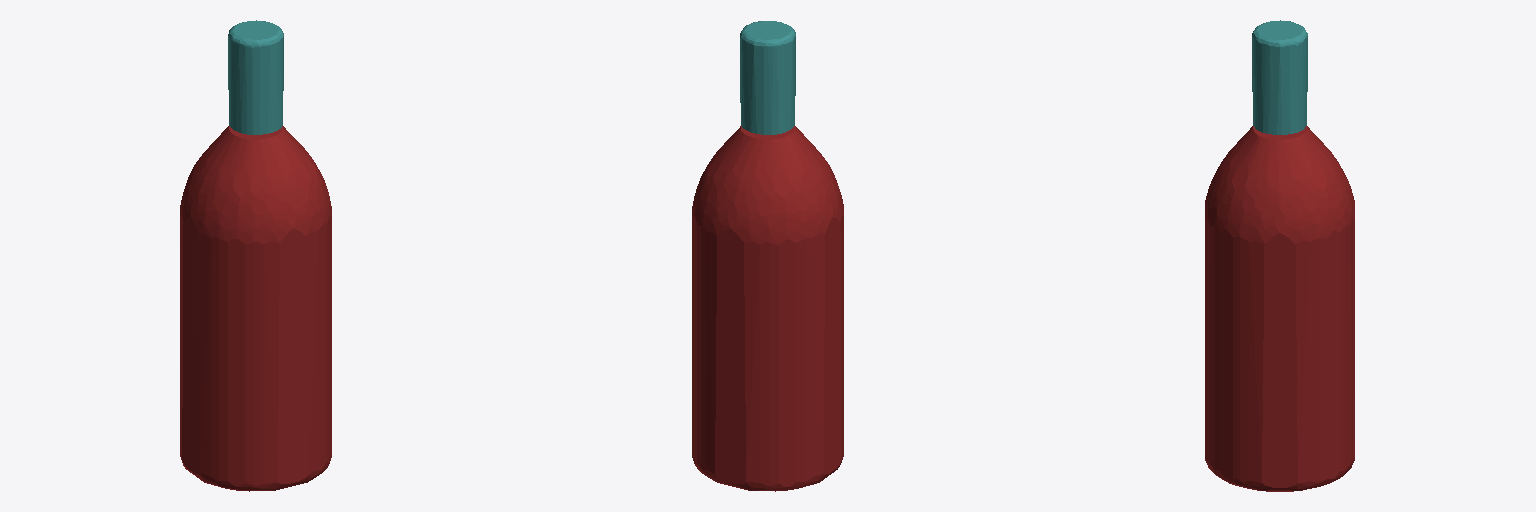
robot.urdf — root:
<robot name="root">
  <link name="bottle_body">
    <inertial>
      <origin xyz="0 0 0" rpy="0 0 0"/>
    </inertial>
    <mass value="1.00E-02"/>
    <visual>
      <origin xyz="0 0 0" rpy="0 0 0"/>
      <geometry>
        <mesh filename="core-bottle-b2498accc1c3fe732db3066d0100ee4-coacd_convex_piece_1.obj" scale="1.0000E-01 1.0000E-01 1.0000E-01"/>
      </geometry>
      <material name="">
        <color rgba="6.00E-01 2.00E-01 2.00E-01 1"/>
      </material>
    </visual>
    <collision>
      <origin xyz="0 0 0" rpy="0 0 0"/>
      <geometry>
        <mesh filename="core-bottle-b2498accc1c3fe732db3066d0100ee4-coacd_convex_piece_1.obj" scale="1.0000E-01 1.0000E-01 1.0000E-01"/>
      </geometry>
    </collision>
  </link>
  <link name="bottle_cap">
    <origin xyz="0 0 0.002" rpy="0 0 0"/>
    <mass value="1.00E-02"/>
    <visual>
      <origin xyz="0 0 0.002" rpy="0 0 0"/>
      <geometry>
        <mesh filename="core-bottle-b2498accc1c3fe732db3066d0100ee4-coacd_convex_piece_0.obj" scale="1.0000E-01 1.0000E-01 1.0000E-01"/>
      </geometry>
      <material name="">
        <color rgba="3.00E-01 6.00E-01 6.00E-01 1"/>
      </material>
    </visual>
    <collision>
      <origin xyz="0 0 0.002" rpy="0 0 0"/>
      <geometry>
        <mesh filename="core-bottle-b2498accc1c3fe732db3066d0100ee4-coacd_convex_piece_0.obj" scale="1.0000E-01 1.0000E-01 1.0000E-01"/>
      </geometry>
    </collision>
  </link>
  <joint name="bottle_cap_joint" type="revolute">
    <origin xyz="0 0 0" rpy="0 0 0"/>
    <parent link="bottle_body"/>
    <child link="bottle_cap"/>
    <axis xyz="0 0 1"/>
    <limit lower="0.00" upper="6.28"/>
    <dynamics damping="0.05"/>
  </joint>
</robot>

--- Render facts (derived) ---
Views: 3 orthographic renders of the robot side by side, from view 1: azimuth 30°, elevation 25°; view 2: azimuth 150°, elevation 25°; view 3: azimuth 270°, elevation 25°.
Model root with 2 links and 1 joints (1 revolute), rooted at bottle_body, posed all joints at 0.
Links seen in each view (by area): view 1: bottle_body, bottle_cap; view 2: bottle_body, bottle_cap; view 3: bottle_body, bottle_cap.
Link boxes in pixels (x1=…): bottle_body: x1=180, y1=126, x2=331, y2=491; bottle_cap: x1=228, y1=20, x2=283, y2=134; bottle_body: x1=692, y1=126, x2=843, y2=491; bottle_cap: x1=740, y1=21, x2=795, y2=134; bottle_body: x1=1205, y1=126, x2=1354, y2=491; bottle_cap: x1=1252, y1=20, x2=1307, y2=134.
Bounding box of the posed robot: 0.0597 × 0.0597 × 0.1914 m (x, y, z).
Meshes: 2 distinct files referenced, 2 mesh visuals loaded (2 OBJ).